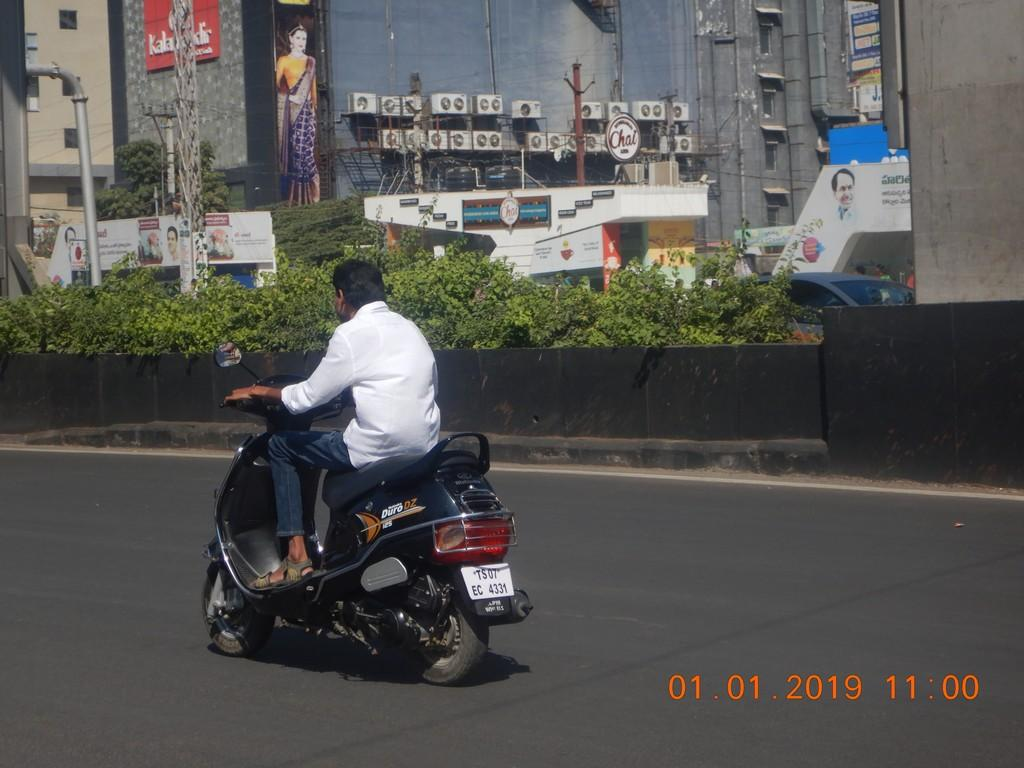plate: (465, 563, 511, 596)
